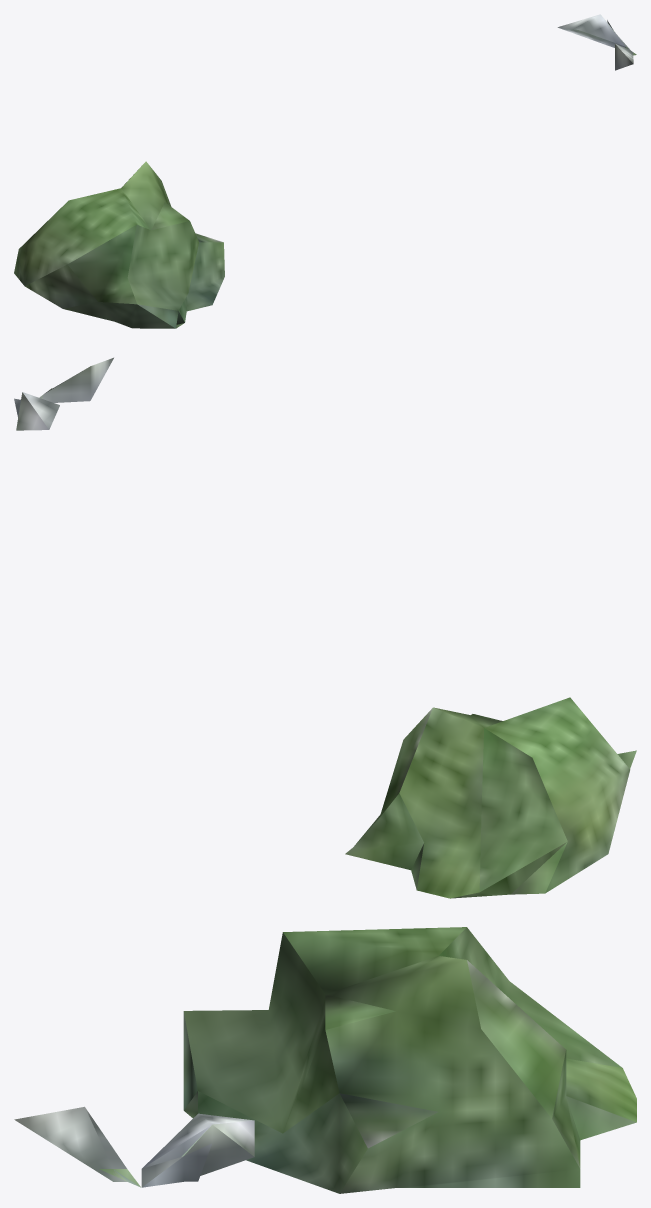
3 renders of one model, top to bottom at view 1: azimuth 30°, elevation 25°; view 2: azimuth 150°, elevation 25°; view 3: azimuth 270°, elevation 25°, orthographic. The views are drawn at different scales.
Visible parts, largest first — view 1: 30436272704370617637_0; view 2: 30436272704370617637_0; view 3: 30436272704370617637_0.
Part boxes in pixels (bbox=[...]): 30436272704370617637_0: bbox=[14, 14, 636, 328]; 30436272704370617637_0: bbox=[14, 357, 636, 898]; 30436272704370617637_0: bbox=[14, 927, 636, 1193].
Bounding box in the file's own units: 12.58 × 4.63 × 6.79.
1 material, 1 textured.
